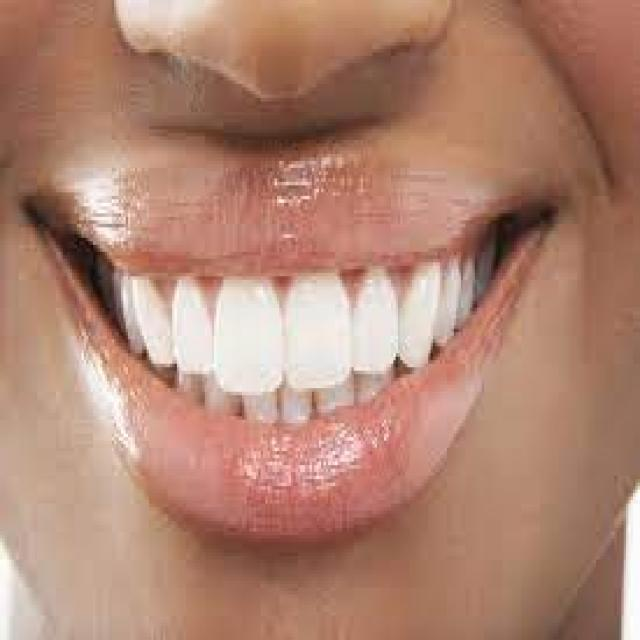tooth: (214, 280, 282, 384), (291, 273, 349, 381), (356, 262, 396, 381), (172, 276, 216, 374), (135, 276, 175, 364), (405, 266, 433, 364), (116, 273, 138, 339), (456, 248, 473, 322), (249, 388, 275, 430), (284, 384, 314, 420), (435, 255, 449, 332), (323, 381, 354, 409)
